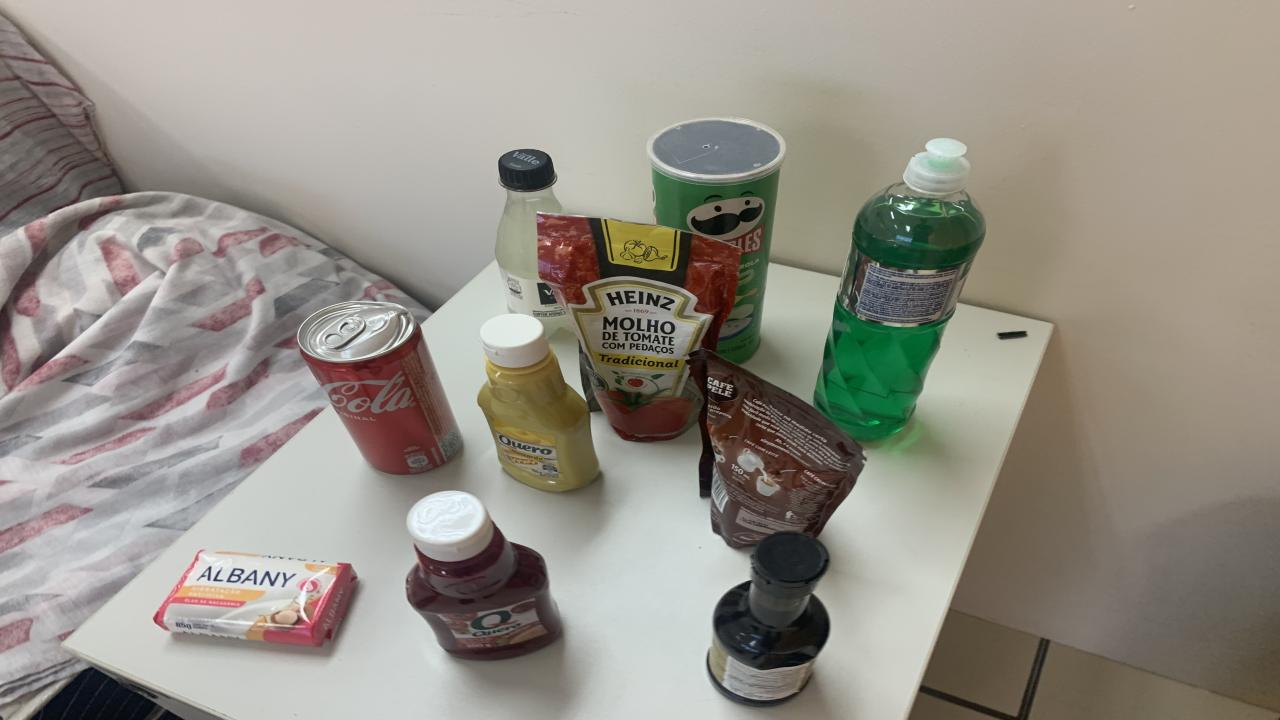Coffee-Pantry_Items: (688, 351, 865, 548)
Coke-Drinks: (298, 302, 462, 474)
Detergent-Cleanup_Items: (815, 139, 985, 441)
English_Sauce-Pantry_Items: (708, 532, 830, 707)
Ketchup-Pantry_Items: (405, 491, 562, 660)
Mustard-Pantry_Items: (478, 313, 600, 491)
Pringles-Snacks: (648, 116, 785, 362)
Soap-Cleanup_Items: (152, 549, 358, 647)
Soda-Drinks: (495, 148, 568, 336)
Tomato_Sauce-Pantry_Items: (538, 214, 740, 441)
